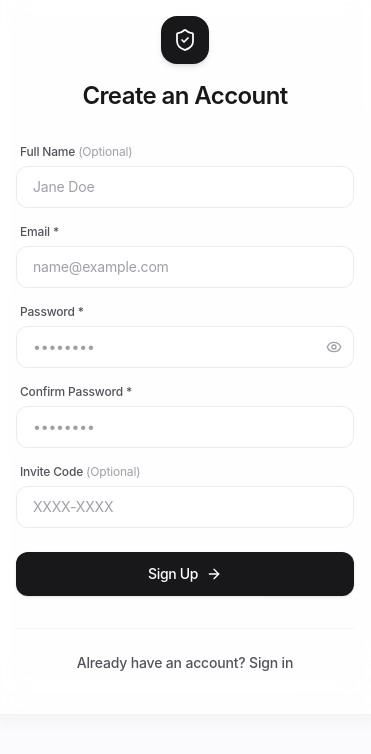
RegisterPage › displays server error
In the field with placeholder "name@example.com": x=185, y=267 [16,246,354,288], type "test@example.com"
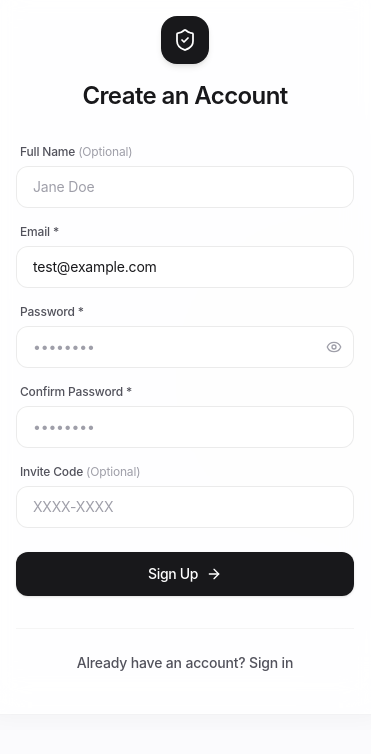
In the password field with placeholder "••••••••": x=185, y=347 [16,326,354,368], type "Password123!"
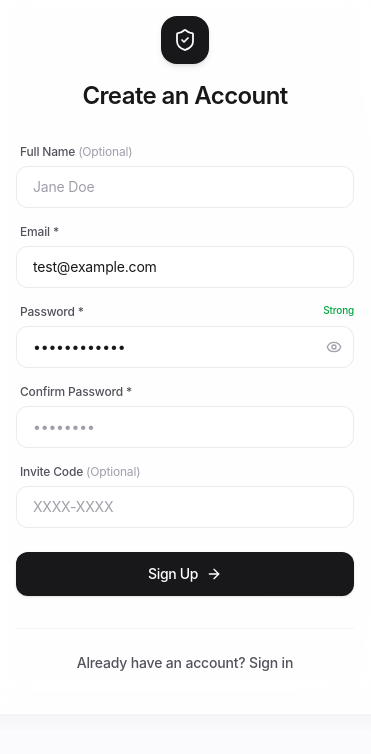
In the password field with placeholder "••••••••": x=185, y=427 [16,406,354,448], type "Password123!"
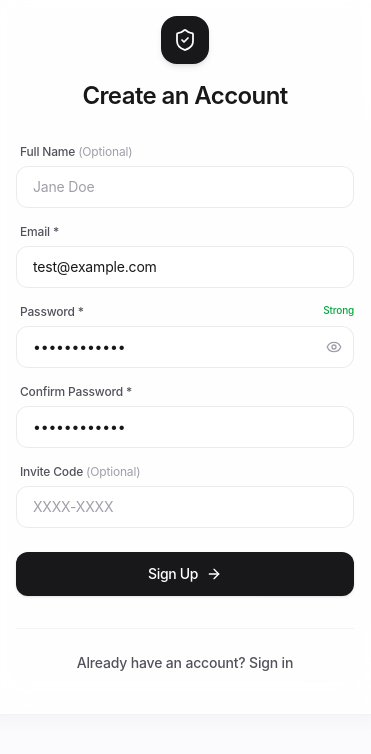
Click the button "Sign Up": x=185, y=574 [16,552,354,596]
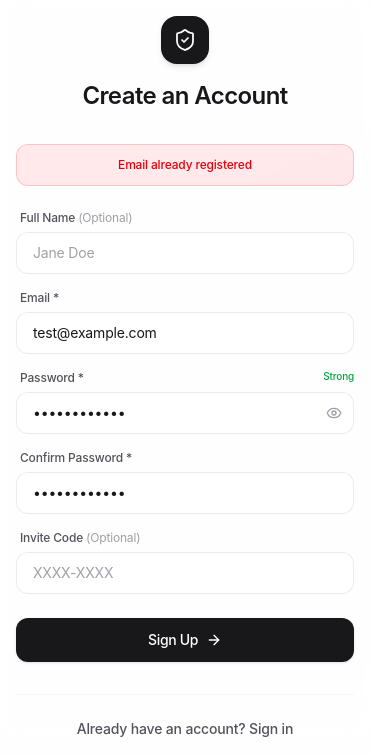
Expected: the text "Email already registered" is shown, [16,144,354,186]
